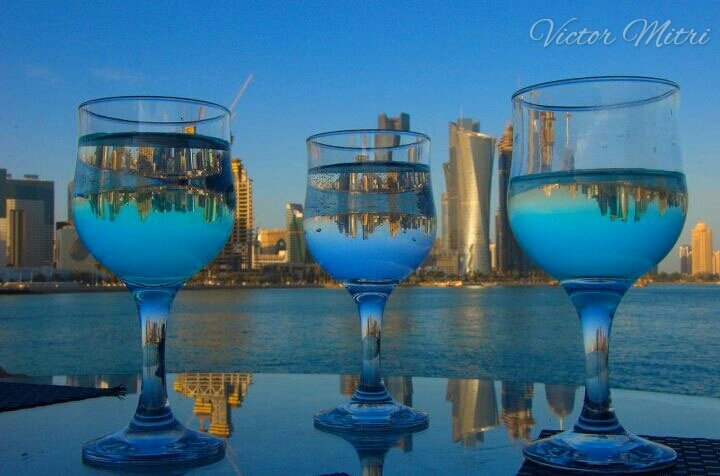glass of water: (511, 83, 690, 459), (76, 92, 231, 468), (303, 132, 430, 427)
